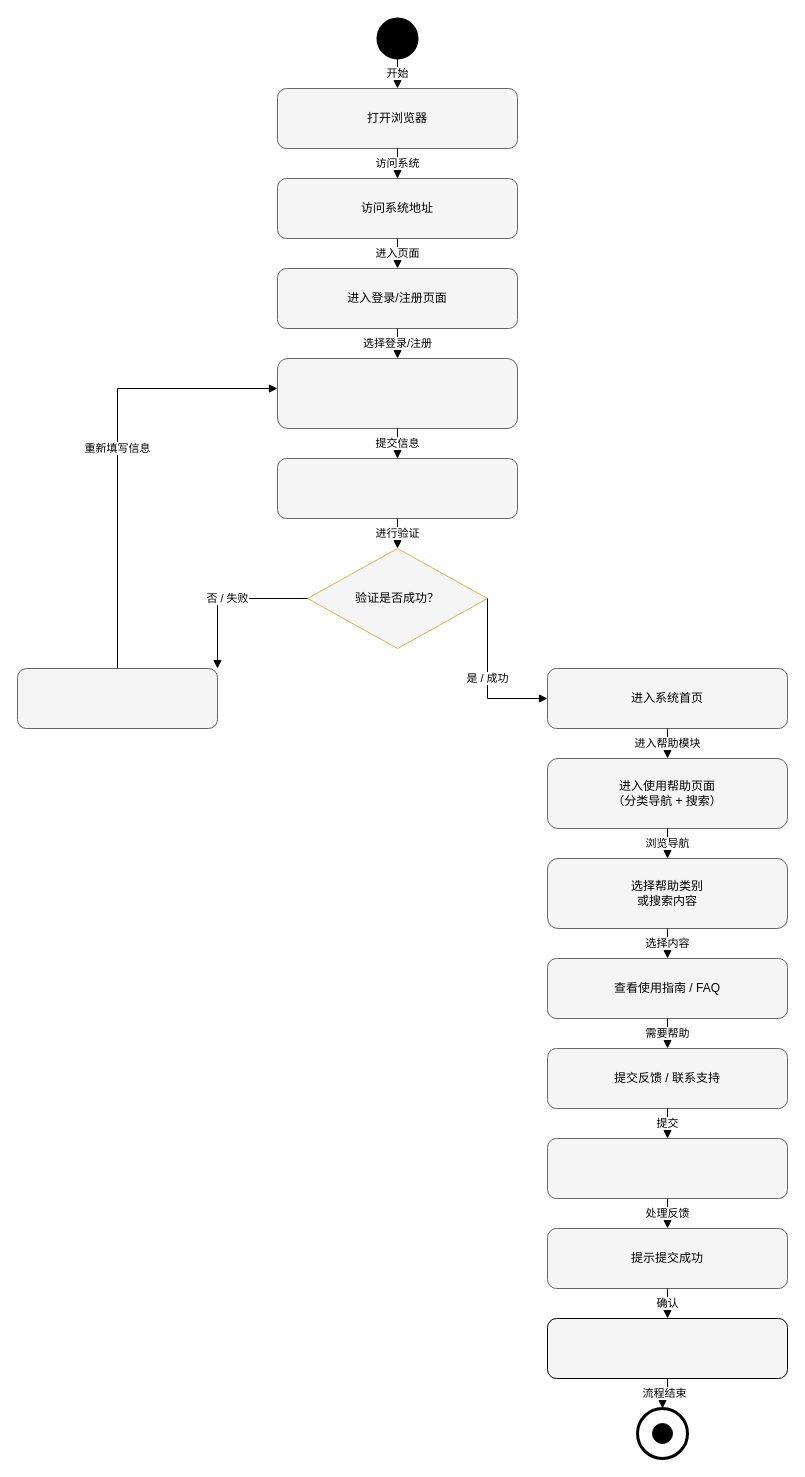
The diagram is 805 pixels wide and 1477 high, and some of its shapes have lost their labels. Here are the shapes that lost their labels. From the top down, the box of each, then its label:
(276, 358, 518, 428): 选择登录/注册 填写信息
(276, 458, 518, 518): 系统校验信息
(16, 668, 218, 728): 提示错误
(546, 1138, 788, 1198): 系统接收反馈
(546, 1318, 788, 1378): 帮助使用完成
